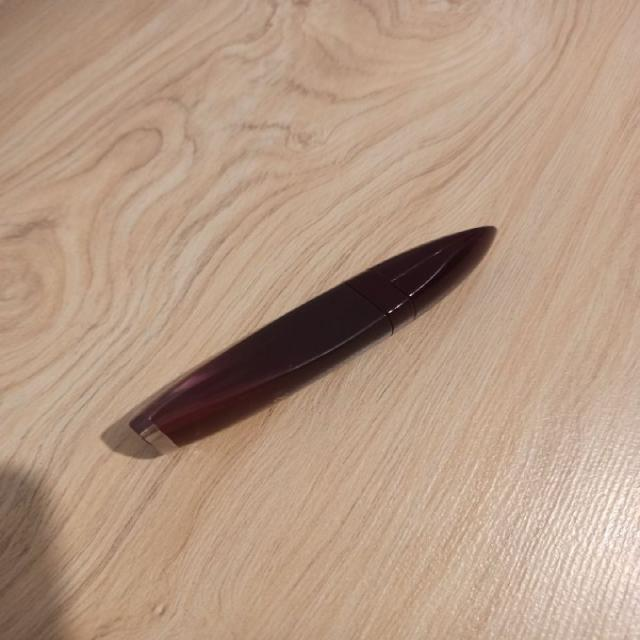lipstick: (127, 224, 495, 455)
